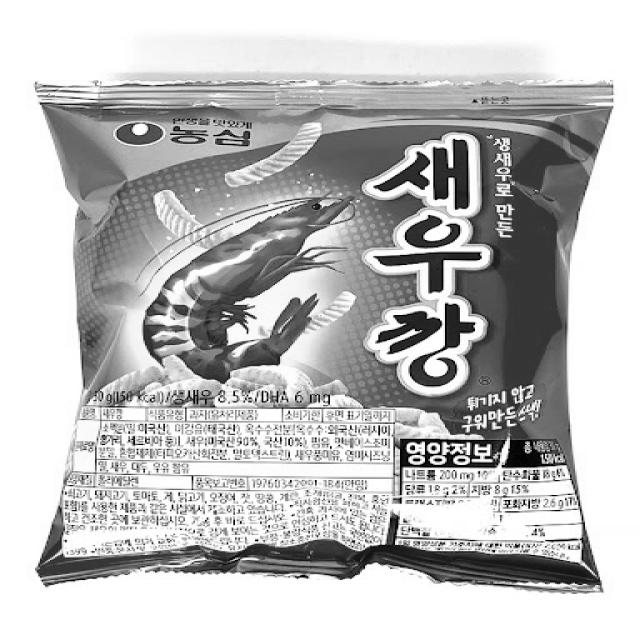Nutrition Label: (381, 425, 600, 571)
